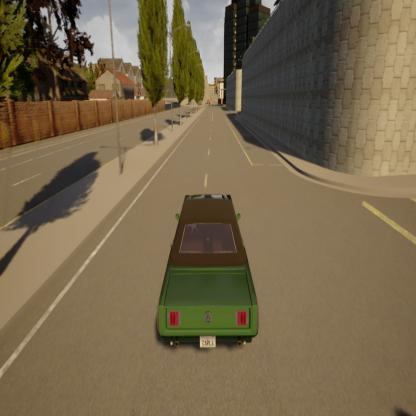Cars: (146, 190, 265, 348)
